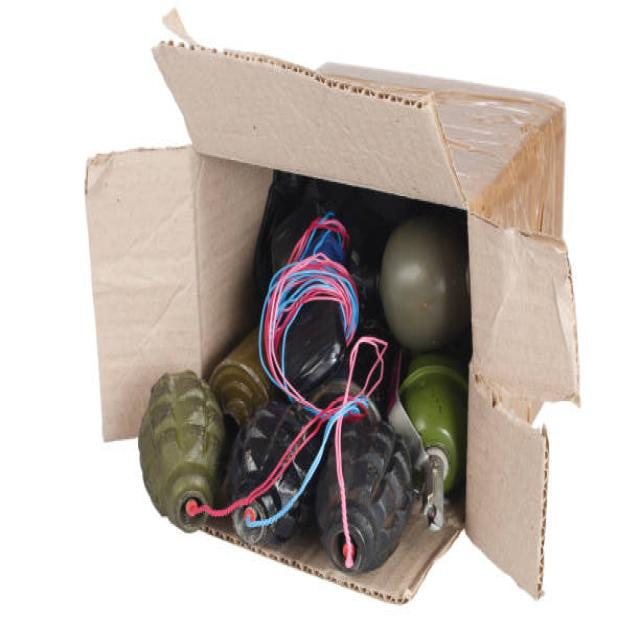grenade: (222, 398, 329, 556), (315, 413, 414, 583), (133, 368, 227, 541)
